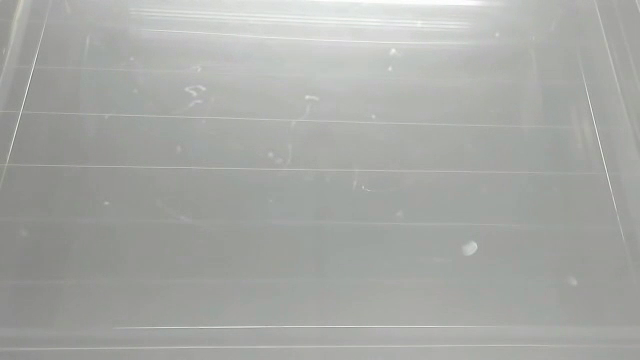alpha: (460, 238, 482, 260), (565, 274, 581, 291)
